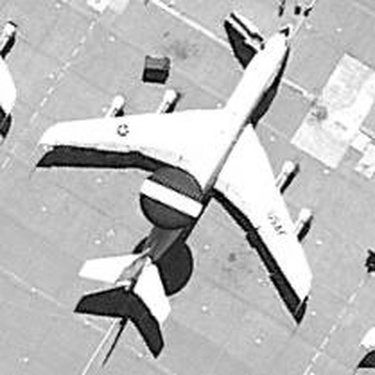airplane: (1, 40, 328, 334), (4, 55, 21, 135), (347, 312, 372, 365)
